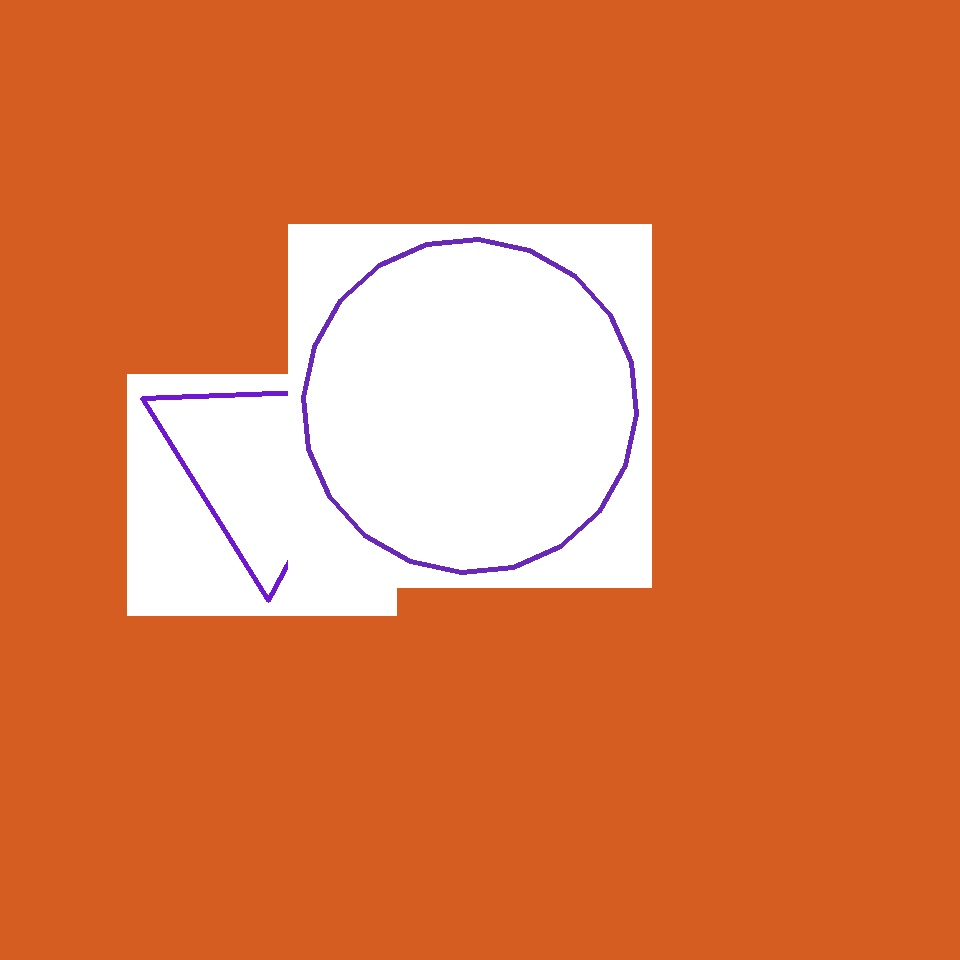circle: (39, 68, 348, 364), (145, 358, 384, 568)
square: (708, 722, 912, 925)
triangle: (287, 62, 650, 426), (304, 240, 636, 572)
